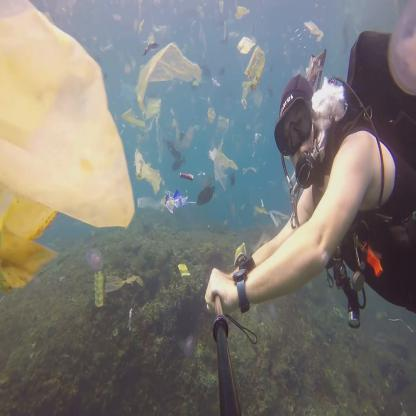Rác: (0, 0, 132, 283), (134, 47, 204, 99), (235, 34, 264, 95), (130, 152, 166, 194), (207, 140, 240, 182), (135, 100, 164, 143), (206, 106, 235, 144), (253, 196, 287, 224), (134, 17, 158, 49), (158, 187, 186, 213), (92, 275, 110, 310), (303, 19, 327, 43), (231, 0, 252, 18), (220, 19, 235, 43), (175, 266, 191, 283)
